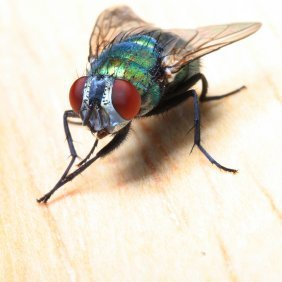green bottles fly: (34, 3, 270, 217)
